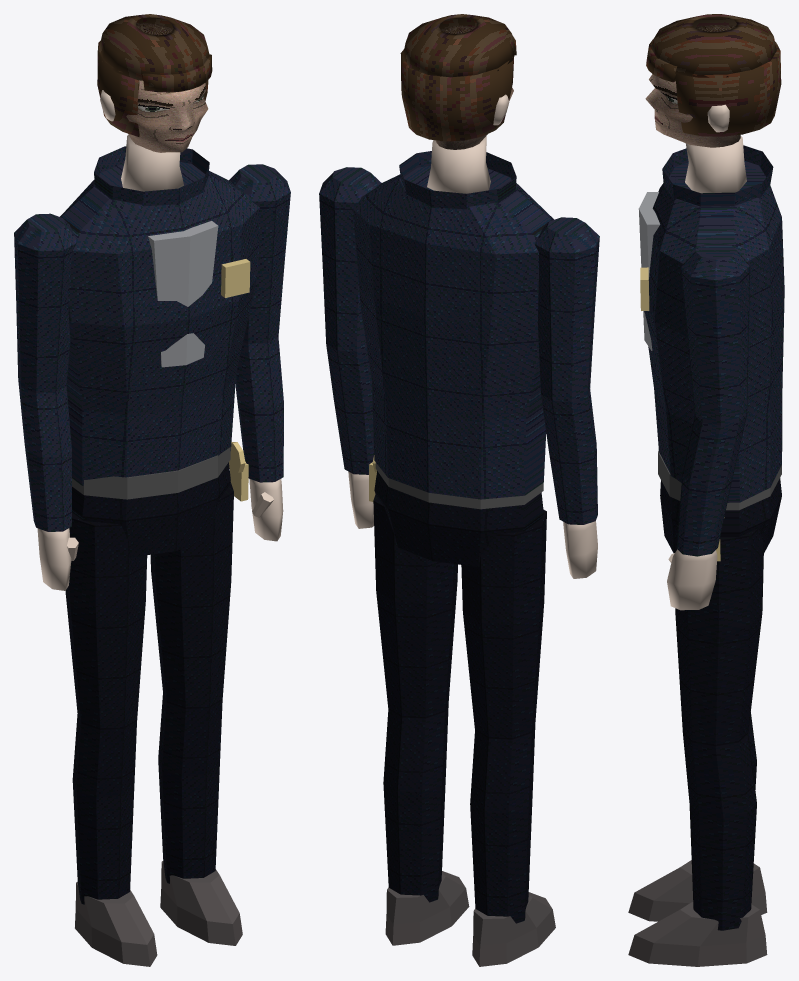
Rendered from char_martin.glb.
3 views of the same model, side by side, from view 1: azimuth 30°, elevation 25°; view 2: azimuth 150°, elevation 25°; view 3: azimuth 270°, elevation 25° (orthographic).
Parts seen in each view (by area): view 1: JacketTorso, LegL_Pivot_Leg, LegR_Pivot_Leg, ArmSleeve_L, ArmSleeve_R, Pelvis, ShirtCollar, HairShortCrown, LegR_Pivot_Boot, LegL_Pivot_Boot, OrganicHeadMesh, Belt (+7 smaller); view 2: JacketTorso, LegL_Pivot_Leg, LegR_Pivot_Leg, ArmSleeve_L, ArmSleeve_R, Pelvis, HairShortBack, HairShortCrown, LegR_Pivot_Boot, LegL_Pivot_Boot, NeckOrganic, JacketCollarRim (+4 smaller); view 3: LegR_Pivot_Leg, JacketTorso, ArmSleeve_R, LegR_Pivot_Boot, HairShortCrown, HairShortBack, LegL_Pivot_Boot, Pelvis, NeckOrganic, OrganicHeadMesh, Hand_R, JacketCollarRim (+5 smaller).
Part boxes in pixels (x1,y1,x2,y2): JacketTorso: [60, 162, 260, 485]; LegL_Pivot_Leg: [65, 512, 147, 904]; LegR_Pivot_Leg: [150, 482, 233, 883]; ArmSleeve_L: [14, 213, 76, 531]; ArmSleeve_R: [229, 164, 290, 482]; Pelvis: [72, 462, 230, 557]; ShirtCollar: [148, 221, 218, 367]; HairShortCrown: [99, 14, 209, 80]; LegR_Pivot_Boot: [160, 861, 242, 945]; LegL_Pivot_Boot: [75, 882, 157, 966]; OrganicHeadMesh: [126, 23, 208, 152]; Belt: [72, 447, 230, 499]; JacketTorso: [352, 165, 553, 499]; LegL_Pivot_Leg: [461, 509, 546, 923]; LegR_Pivot_Leg: [373, 494, 457, 902]; ArmSleeve_L: [534, 217, 599, 524]; ArmSleeve_R: [319, 167, 381, 474]; Pelvis: [374, 471, 543, 566]; HairShortBack: [400, 49, 513, 141]; HairShortCrown: [402, 14, 516, 77]; LegR_Pivot_Boot: [385, 871, 469, 945]; LegL_Pivot_Boot: [472, 892, 555, 966]; NeckOrganic: [427, 136, 490, 193]; JacketCollarRim: [399, 151, 516, 209]; LegR_Pivot_Leg: [673, 525, 763, 930]; JacketTorso: [644, 160, 784, 502]; ArmSleeve_R: [676, 242, 750, 556]; LegR_Pivot_Boot: [628, 902, 767, 966]; HairShortCrown: [651, 14, 776, 77]; HairShortBack: [675, 41, 781, 136]; LegL_Pivot_Boot: [628, 860, 767, 921]; Pelvis: [660, 478, 781, 552]; NeckOrganic: [685, 136, 746, 193]; OrganicHeadMesh: [645, 25, 740, 147]; Hand_R: [667, 549, 717, 610]; JacketCollarRim: [662, 145, 773, 206].
Bounding box in the file's own units: 0.5684 × 1.81 × 0.2814.
9 materials, 4 textured.
